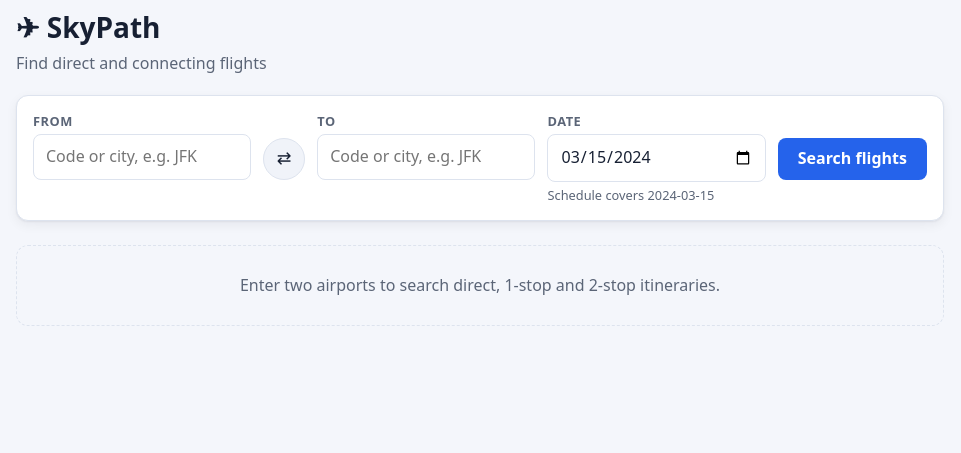
Scenario: App › shows the empty state
Type "JFK" into the dropdown labelled "From".
click(142, 157); type("JFK")  # box [33,134,251,180]
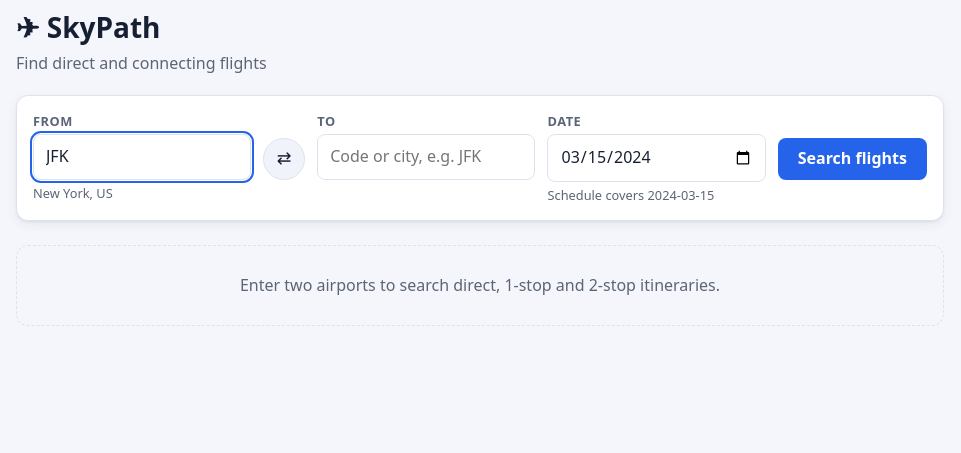
Type "LAX" into the dropdown labelled "To".
click(426, 157); type("LAX")  # box [317,134,536,180]
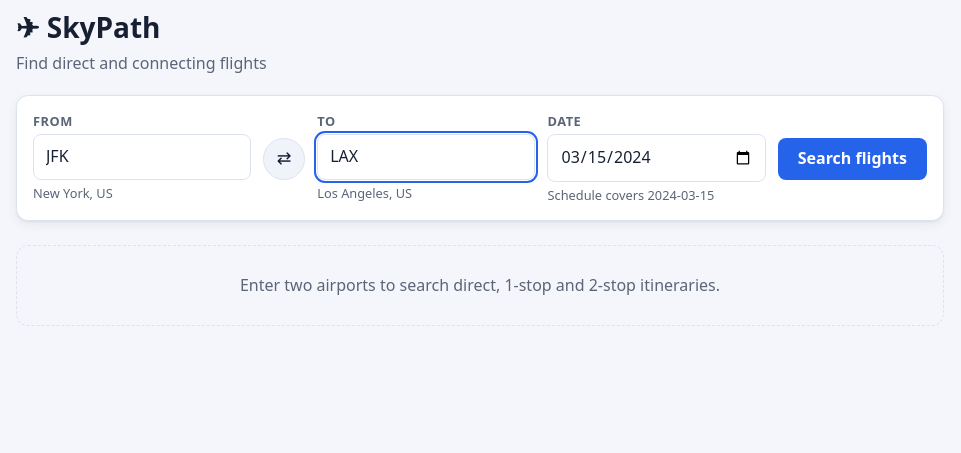
Click the button "Search flights".
click(852, 159)  # box [778,138,927,180]
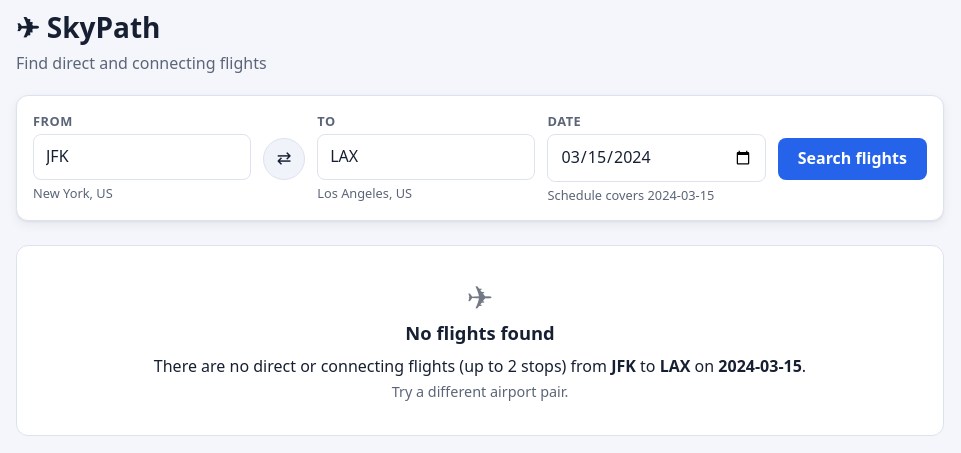
Check: the heading "No flights found" is shown, box [405,320,555,346]
